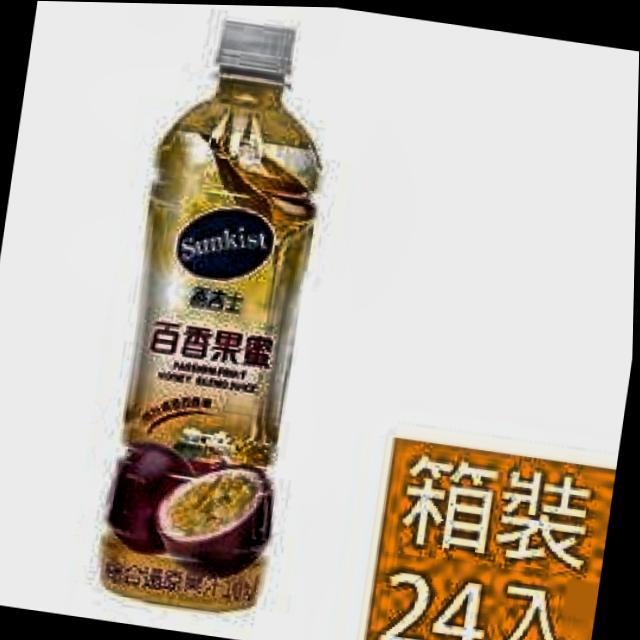Bottles: (54, 1, 384, 630)
